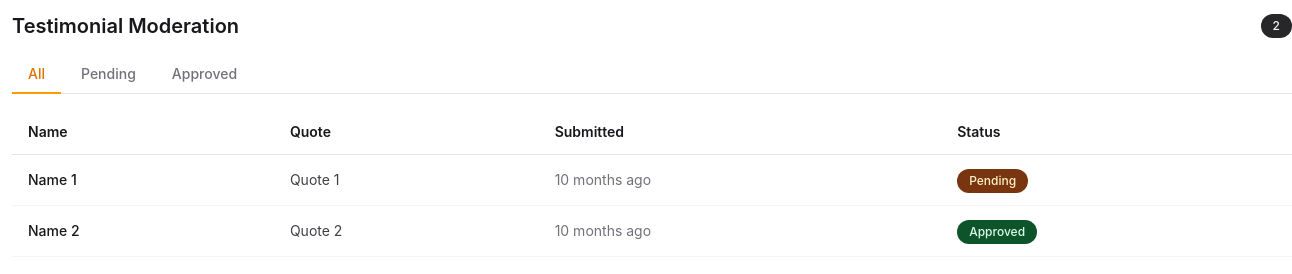
Test case: filters by status tab
Click the tab with aria-label "filter testimonials by approved" at (204, 75), box top-left (156, 56), bottom-right (253, 94)
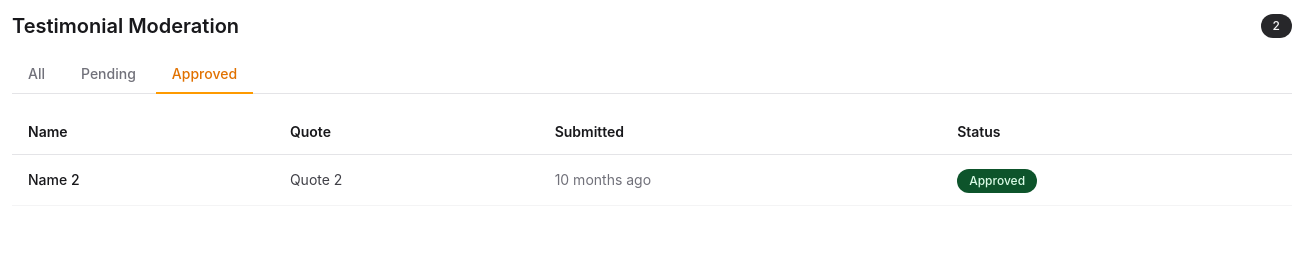
Expected: the text "Name 2" is shown, top-left (12, 154), bottom-right (274, 206)
Expected: the text "Name 1" is gone
